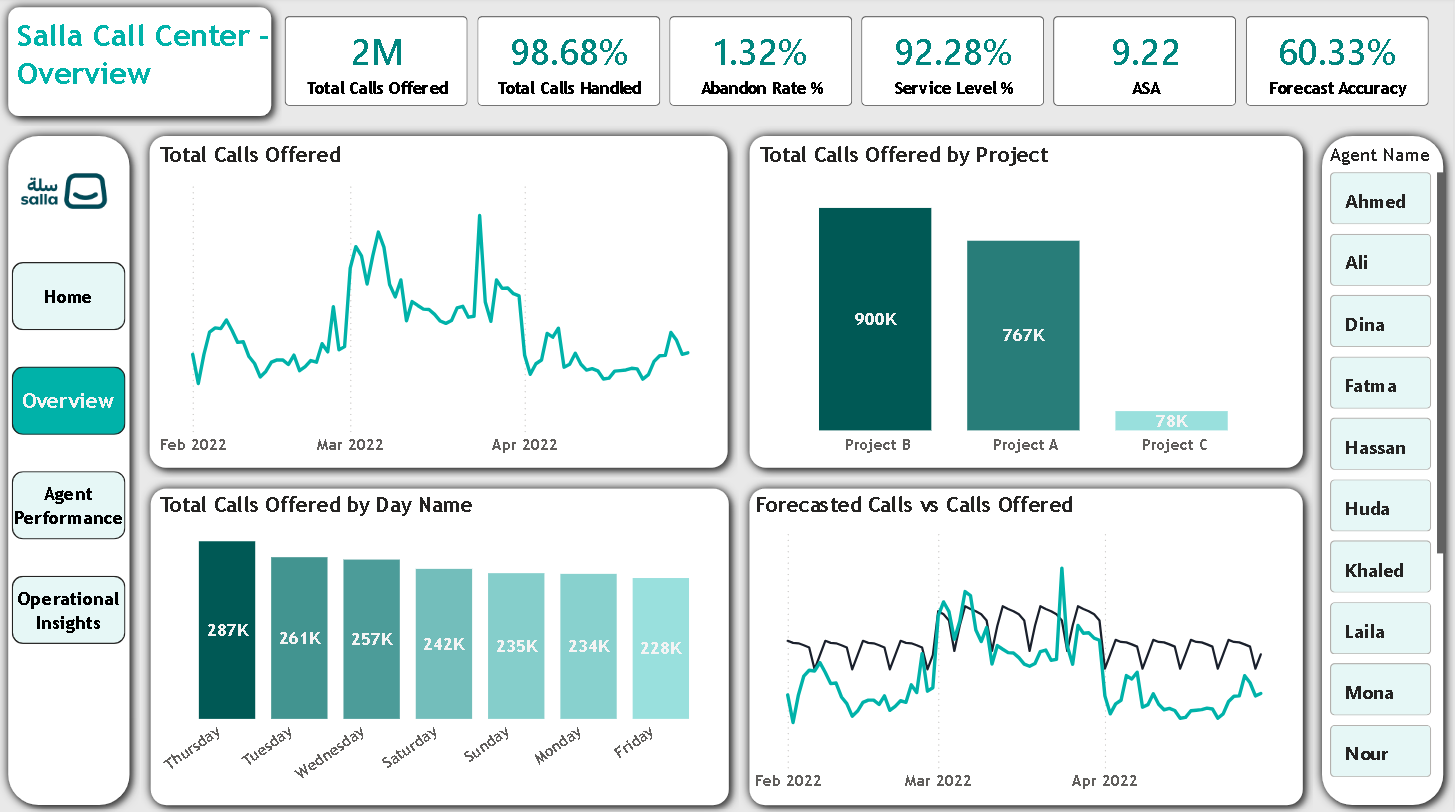

This screenshot's page, from the dashboard's own definition file:
{"tool":"powerbi","page":{"name":"Overview","canvas":[1280,720],"ordinal":1},"visuals":[{"type":"shape","box":[0,0,249.4,113.8],"z":0,"group":"g1"},{"type":"shape","box":[0,113.8,124.7,606.5],"z":0},{"type":"group","id":"g1","title":"Group 1","box":[0,0,249.4,113.8],"z":1000},{"type":"textbox","box":[12.1,12.1,237.3,87.2],"z":1000,"group":"g1"},{"type":"cardVisual","fields":{"Data":["Dax_measure.Total Calls Offered","Dax_measure.Total Calls Handled","Dax_measure.Abandon Rate %","Dax_measure.Service Level %","Dax_measure.ASA","Dax_measure.Forecast Accuracy"]},"box":[234.8,0,1044.7,113.8],"z":2000},{"type":"shape","box":[124.7,113.8,526.6,309.9],"z":3000},{"type":"lineChart","title":"Total Calls Offered","fields":{"Y":["Dax_measure.Total Calls Offered"],"Category":["Salla_data.Date.Variation.Date Hierarchy.Year","Salla_data.Date.Variation.Date Hierarchy.Quarter","Salla_data.Date.Variation.Date Hierarchy.Month","Salla_data.Date.Variation.Date Hierarchy.Day"]},"box":[138,127.1,503.6,286.9],"z":4000},{"type":"shape","box":[652.5,423.7,504.8,296.6],"z":5000},{"type":"shape","box":[125.9,423.7,526.6,296.6],"z":6000},{"type":"shape","box":[652.5,113.8,504.8,309.9],"z":7000},{"type":"columnChart","fields":{"Category":["Salla_data.Project"],"Y":["Dax_measure.Total Calls Offered"]},"box":[665.8,127.1,479.4,286.9],"z":8000},{"type":"image","box":[12.1,127.1,92,85.9],"z":9000},{"type":"lineChart","title":"Forecasted Calls vs Calls Offered","fields":{"Y":["Sum(Salla_data.Forecasted Calls)","Sum(Salla_data.Calls Handled)"],"Category":["Salla_data.Date.Variation.Date Hierarchy.Year","Salla_data.Date.Variation.Date Hierarchy.Quarter","Salla_data.Date.Variation.Date Hierarchy.Month","Salla_data.Date.Variation.Date Hierarchy.Day"]},"box":[660.9,435.8,484.2,274.8],"z":10000},{"type":"shape","box":[1155.3,113.5,124.7,606.5],"z":11000},{"type":"advancedSlicerVisual","fields":{"Values":["Salla_data.Agent Name"]},"box":[1166.9,128.3,112.6,571.4],"z":12000},{"type":"pageNavigator","box":[12.1,233.6,100.5,338.9],"z":13000},{"type":"columnChart","fields":{"Y":["Dax_measure.Total Calls Offered"],"Category":["Salla_data.Day Name"]},"box":[138,435.8,502.4,274.8],"z":14000}]}

Visuals, with their boxes in screenshot pixels (x1, y1, x2, y2), scaled from the page's 1280x720 canvas onto the 1455x812 screenshot:
shape: [0,0,283,128]
shape: [0,128,142,811]
"Group 1" group: [0,0,283,128]
textbox: [14,14,283,112]
cardVisual - Dax_measure.Total Calls Offered x Dax_measure.Total Calls Handled: [267,0,1454,128]
shape: [142,128,740,478]
"Total Calls Offered" lineChart: [157,143,729,467]
shape: [742,478,1316,811]
shape: [143,478,742,811]
shape: [742,128,1316,478]
columnChart - Salla_data.Project x Dax_measure.Total Calls Offered: [757,143,1302,467]
image: [14,143,118,240]
"Forecasted Calls vs Calls Offered" lineChart: [751,491,1302,801]
shape: [1313,128,1454,811]
advancedSlicerVisual - Salla_data.Agent Name: [1326,145,1454,789]
pageNavigator: [14,263,128,646]
columnChart - Dax_measure.Total Calls Offered x Salla_data.Day Name: [157,491,728,801]
